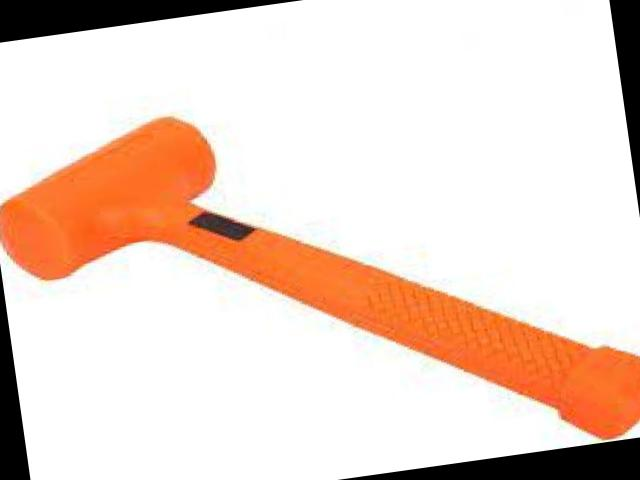hammer: (0, 52, 640, 480)
